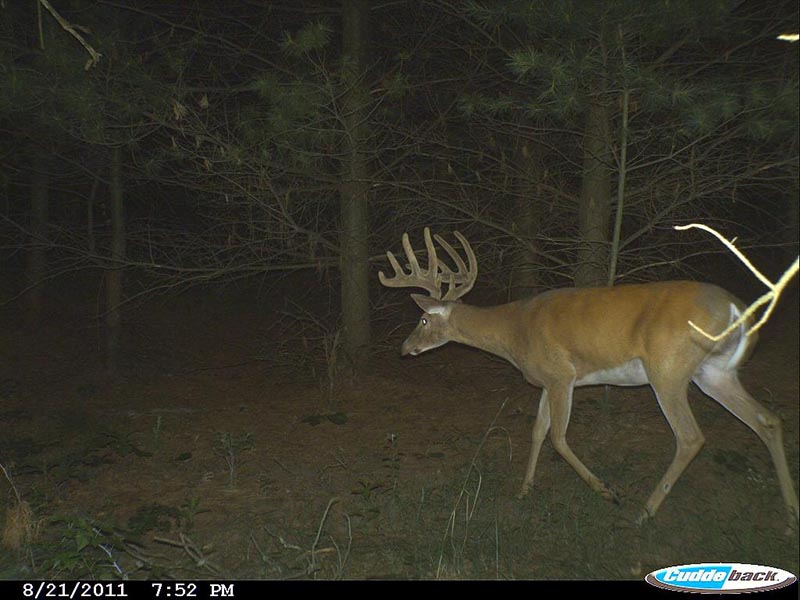cervo: (374, 217, 796, 526)
